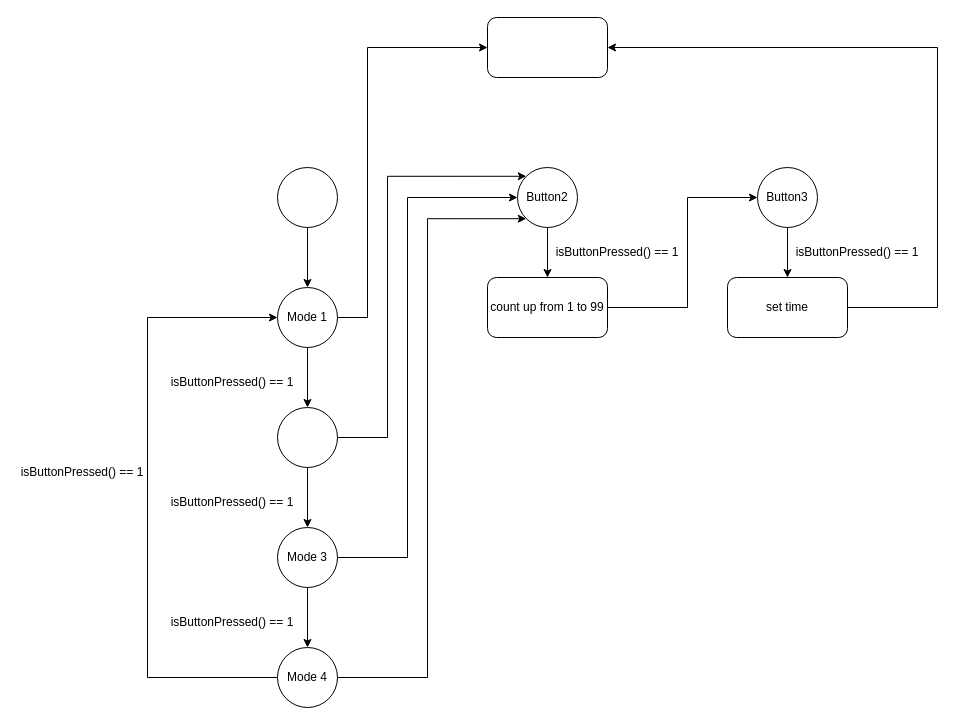
This 963x725 diagram has some shape labels left out. The shapes that lost their labels are listed below. From the top down, each one's centre as x and y in pixels, then its label:
pixel 547 47: Run Traffic Light
pixel 307 197: Button1
pixel 307 437: Mode 2
